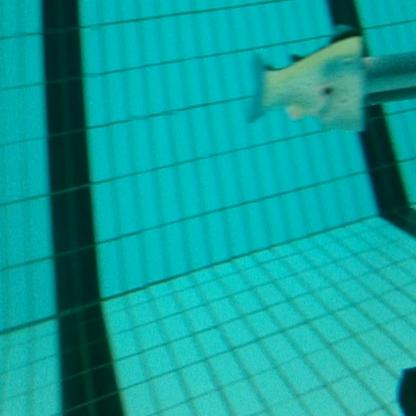tail: (240, 22, 375, 144)
